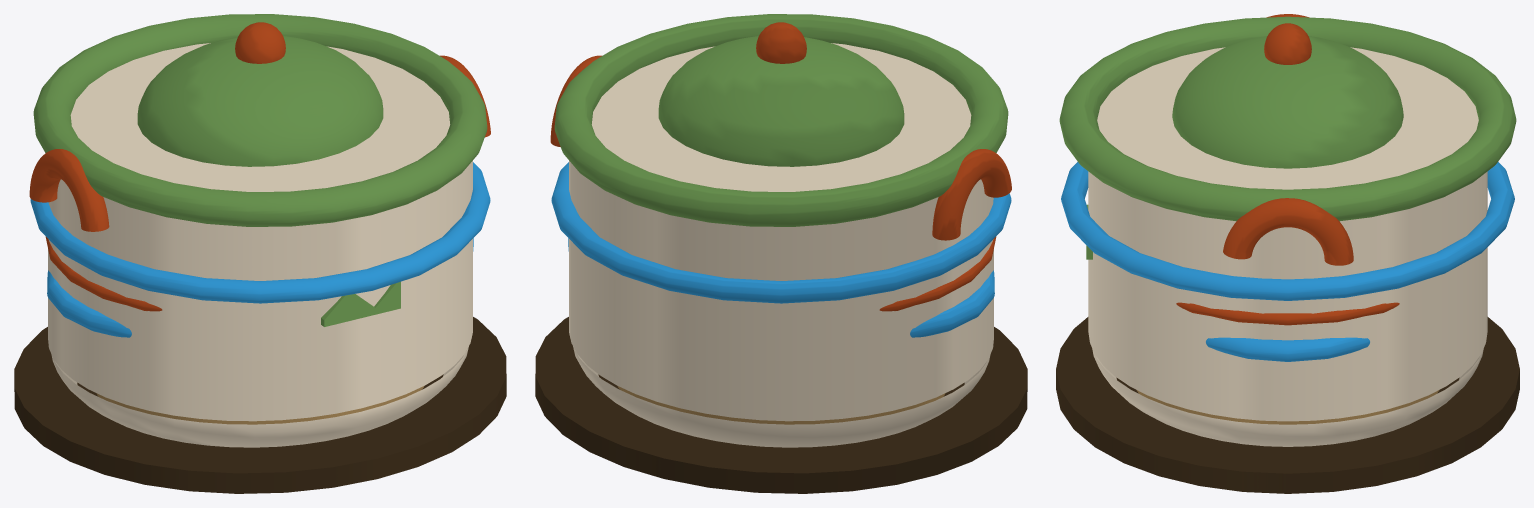
The model's file is 0615_考古图鉴_青铜神树.glb.
3 views of the same model, side by side, from view 1: azimuth 30°, elevation 25°; view 2: azimuth 150°, elevation 25°; view 3: azimuth 270°, elevation 25° (orthographic).
Visible parts, largest first — view 1: card_0615; view 2: card_0615; view 3: card_0615.
Boxes of the visible parts, box(x1,y1,x2,y2) form: card_0615: box(14, 14, 506, 493); card_0615: box(535, 14, 1027, 493); card_0615: box(1056, 14, 1519, 493).
Size of the model in its own units: 1.18 by 1 by 1.11.
